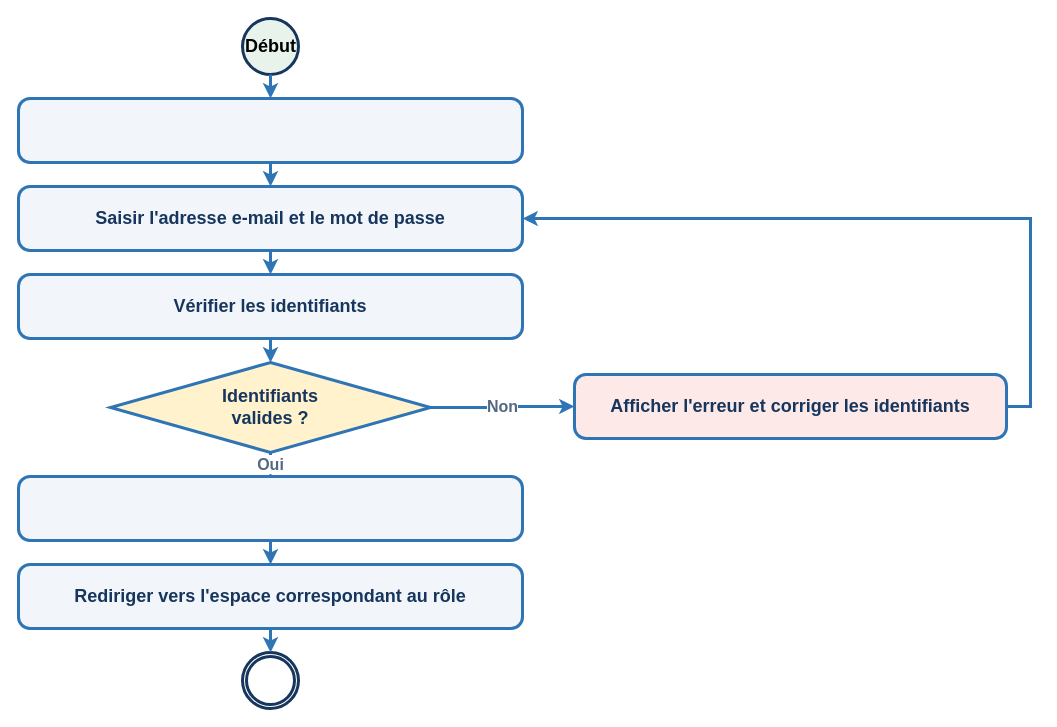
Some shapes in this 1057 by 727 pixel diagram are drawn without their labels. The centre of each missing label's shape, as x and y in pixels:
Accéder au formulaire de connexion: pixel 270 130
Créer la session authentifiée avec le contexte d'accès: pixel 270 508
Fin: pixel 270 680
